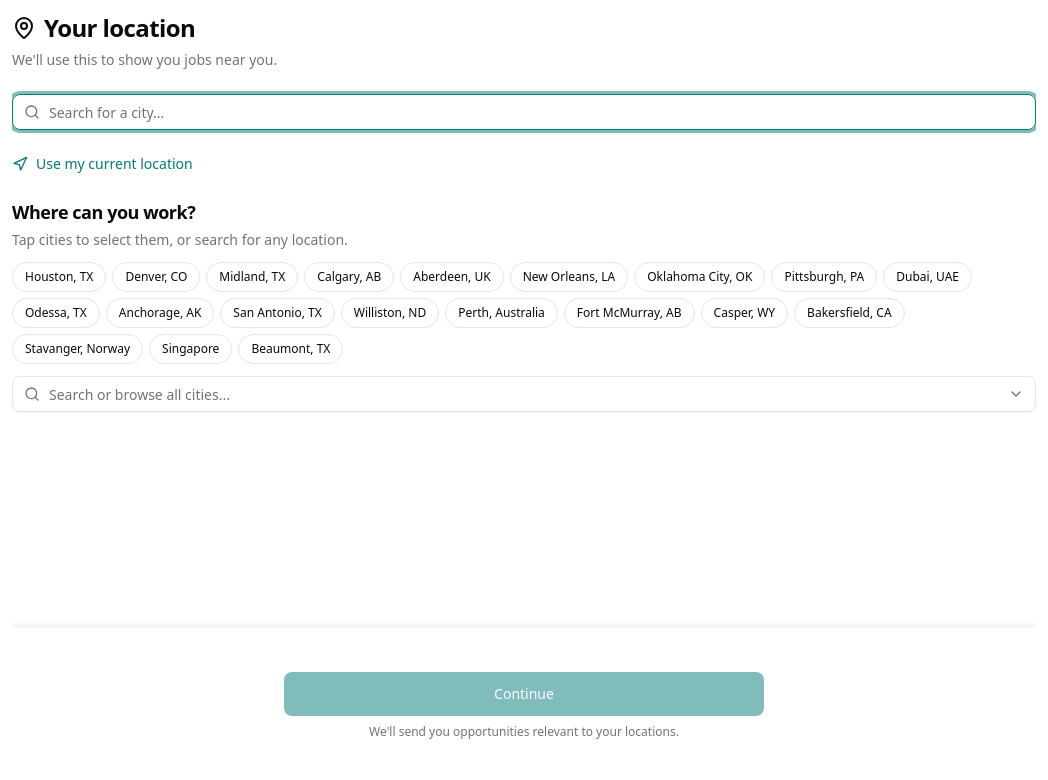
Test case: StepLocation › opens grouped dropdown on search focus
Click the field with placeholder "Search or browse all cities..." at point(524, 394), box [12,376,1036,412]
(page scrolled)
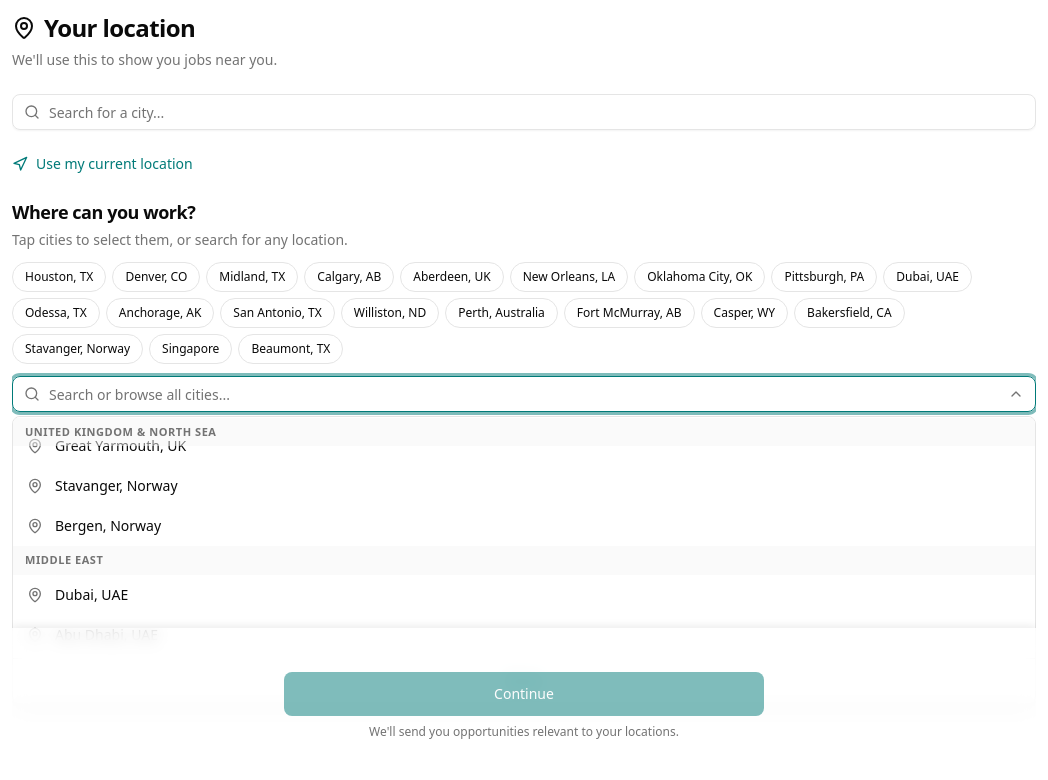
Result: the text "Middle East" is shown at [13,546,1035,574]
